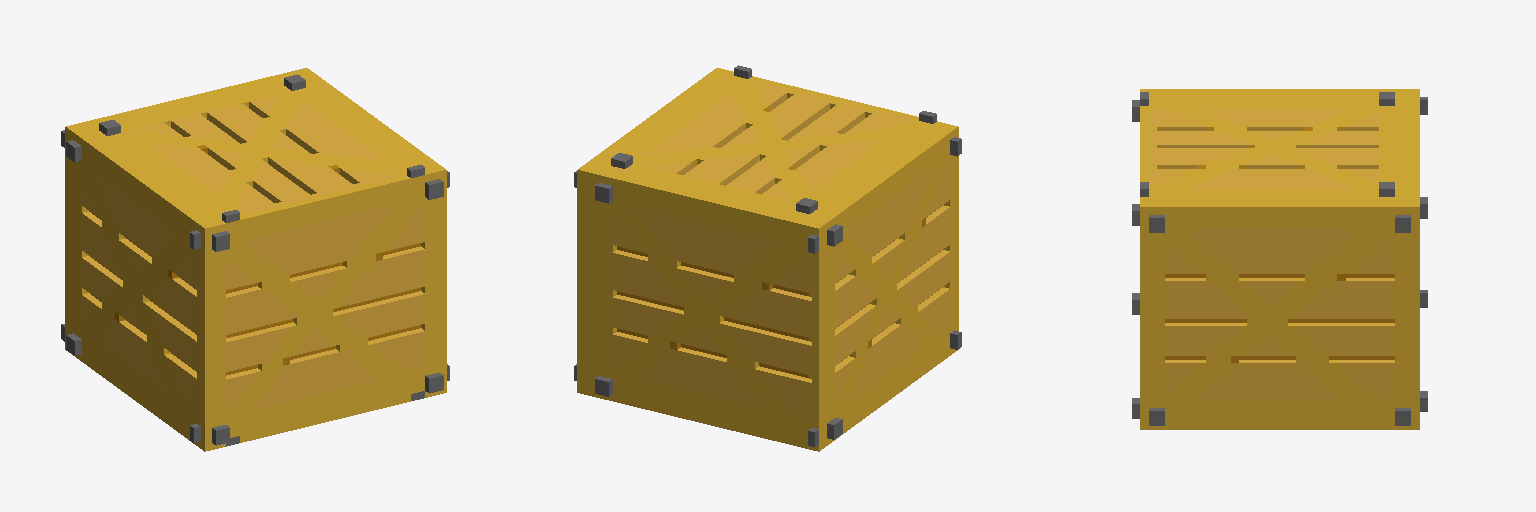
The picture shows the model from 3 angles: view 1: azimuth 30°, elevation 25°; view 2: azimuth 150°, elevation 25°; view 3: azimuth 270°, elevation 25°; orthographic projection.
Visible parts, largest first — view 1: caja_basica; view 2: caja_basica; view 3: caja_basica.
Boxes of the visible parts, <box> form: caja_basica: <box>61,68,449,451</box>; caja_basica: <box>574,65,961,451</box>; caja_basica: <box>1132,89,1427,429</box>.
Size of the model in its own units: 14.07 by 12.12 by 14.07.
Materials: 1 (1 with a texture image).